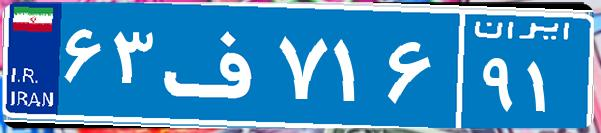1: (330, 28, 385, 110), (525, 38, 570, 115)
3: (110, 28, 158, 105)
6: (385, 28, 445, 110), (57, 26, 110, 107)
7: (273, 28, 330, 110)
9: (475, 38, 525, 113)
ف: (158, 15, 273, 115)
